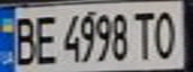4: (60, 9, 81, 64)
8: (109, 8, 133, 62)
9: (93, 9, 115, 63), (78, 9, 96, 63)
B: (9, 12, 39, 66)
E: (30, 11, 60, 65)
O: (151, 6, 184, 61)
T: (130, 7, 157, 62)
